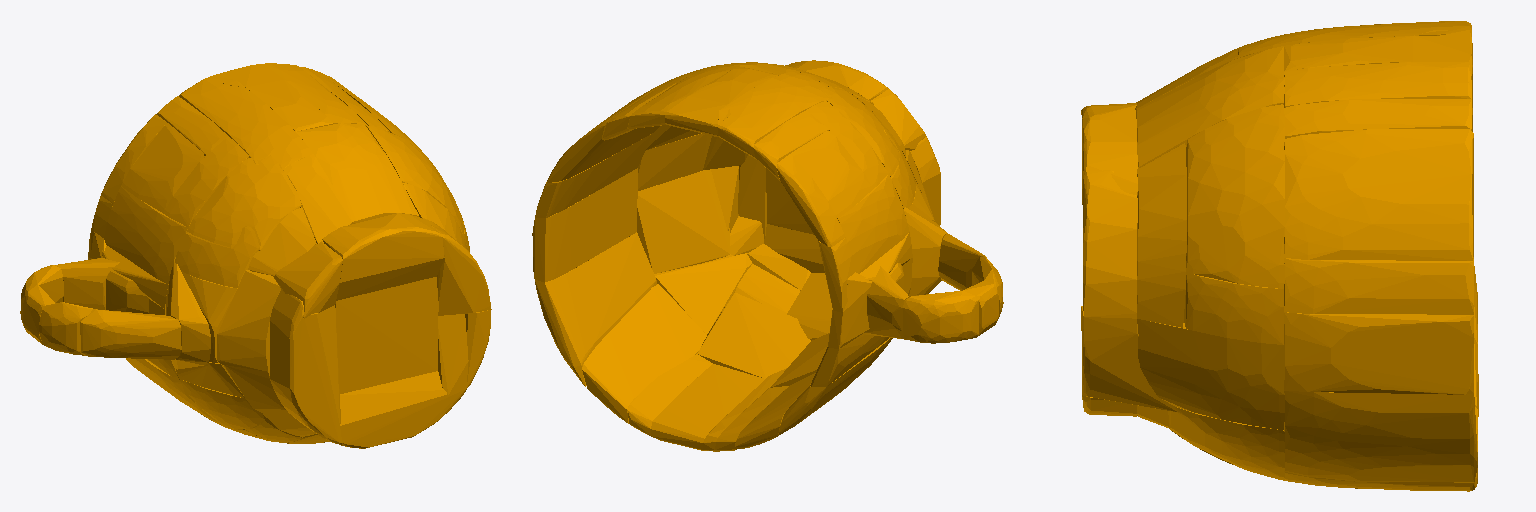
robot.urdf — cup-red:
<?xml version="1.0" ?>
<robot name="cup-red">
  <link name="baseLink">
    <contact>
      <lateral_friction value="1.0"/>
      <inertia_scaling value="3.0"/>
    </contact>
    <inertial>
      <origin rpy="0 0 0" xyz="0.000 0.000 0.000"/>
       <mass value=".1"/>
       <inertia ixx="1" ixy="0.0" ixz="0.0" iyy="1" iyz="0.0" izz="1"/>
    </inertial>
    <visual>
      <origin rpy="0 0 0" xyz="0 0 0"/>
      <geometry>
        <mesh filename="cup/cup-red.obj" scale="1.0 1.0 1.0"/>
      </geometry>
    </visual>
    <collision>
      <origin rpy="0 0 0" xyz="0 0 0"/>
      <geometry>
        <mesh filename="../collision/cup/cup-red.obj" scale="1.0 1.0 1.0"/>
      </geometry>
    </collision>
  </link>
</robot>
        

--- Render facts (derived) ---
The picture shows the robot from 3 angles, left to right: view 1: azimuth 30°, elevation 25°; view 2: azimuth 150°, elevation 25°; view 3: azimuth 270°, elevation 25°; orthographic projection.
Robot: cup-red — 1 links, 0 joints (none); root link baseLink; default pose: all joints at 0.
Visible links, largest first — view 1: baseLink; view 2: baseLink; view 3: baseLink.
Boxes of the visible links, x1,y1,x2,y2 form: baseLink: [20, 63, 491, 448]; baseLink: [532, 60, 1003, 451]; baseLink: [1081, 21, 1478, 491].
Size in the robot's own frame: 0.1112 by 0.0728 by 0.0849 metres.
Meshes: 1 distinct files referenced, 1 mesh visuals loaded (1 OBJ).